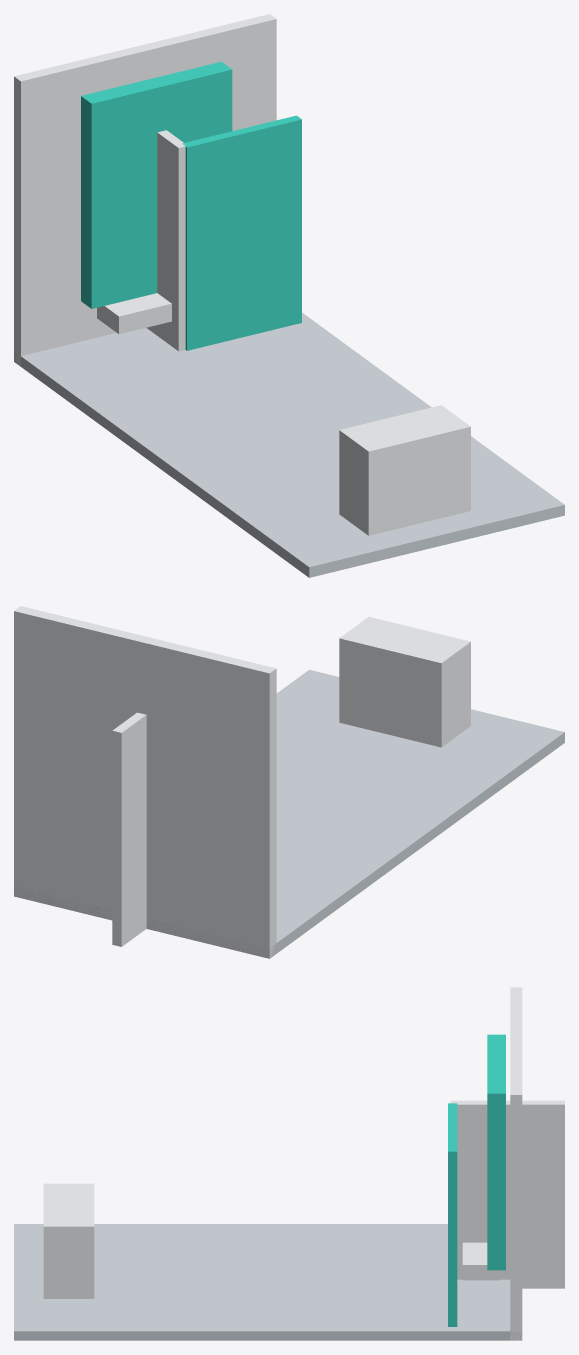
The picture shows the model from 3 angles, top to bottom: view 1: azimuth 30°, elevation 25°; view 2: azimuth 150°, elevation 25°; view 3: azimuth 270°, elevation 25°; orthographic projection. The views are drawn at different scales.
Visible parts, largest first — view 1: Exhibition Booth Concept; view 2: Exhibition Booth Concept; view 3: Exhibition Booth Concept.
Boxes of the visible parts, x1,y1,x2,y2 form: Exhibition Booth Concept: (14, 14, 564, 577); Exhibition Booth Concept: (14, 606, 564, 958); Exhibition Booth Concept: (14, 987, 564, 1340).
Bounding box in the file's own units: 3 × 3.2 × 6.51.
